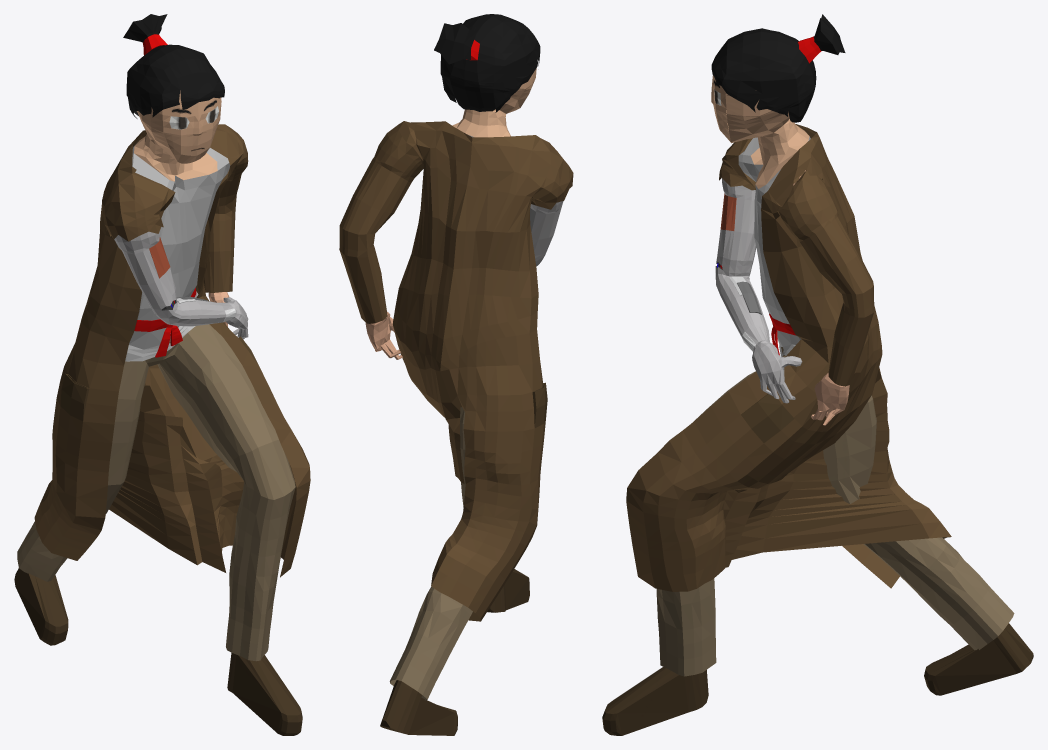
The model's file is One_RF_000010.obj.
3 views of the same model, side by side, from view 1: azimuth 30°, elevation 25°; view 2: azimuth 150°, elevation 25°; view 3: azimuth 270°, elevation 25° (orthographic). The views are drawn at different scales.
Parts seen in each view (by area): view 1: Hair_Cube.004; view 2: Hair_Cube.004; view 3: Hair_Cube.004.
Part boxes in pixels (x1=…): Hair_Cube.004: x1=14, y1=14, x2=310, y2=735; Hair_Cube.004: x1=339, y1=14, x2=573, y2=735; Hair_Cube.004: x1=602, y1=14, x2=1033, y2=735.
Size of the model in its own units: 1.09 by 3.73 by 2.1.
